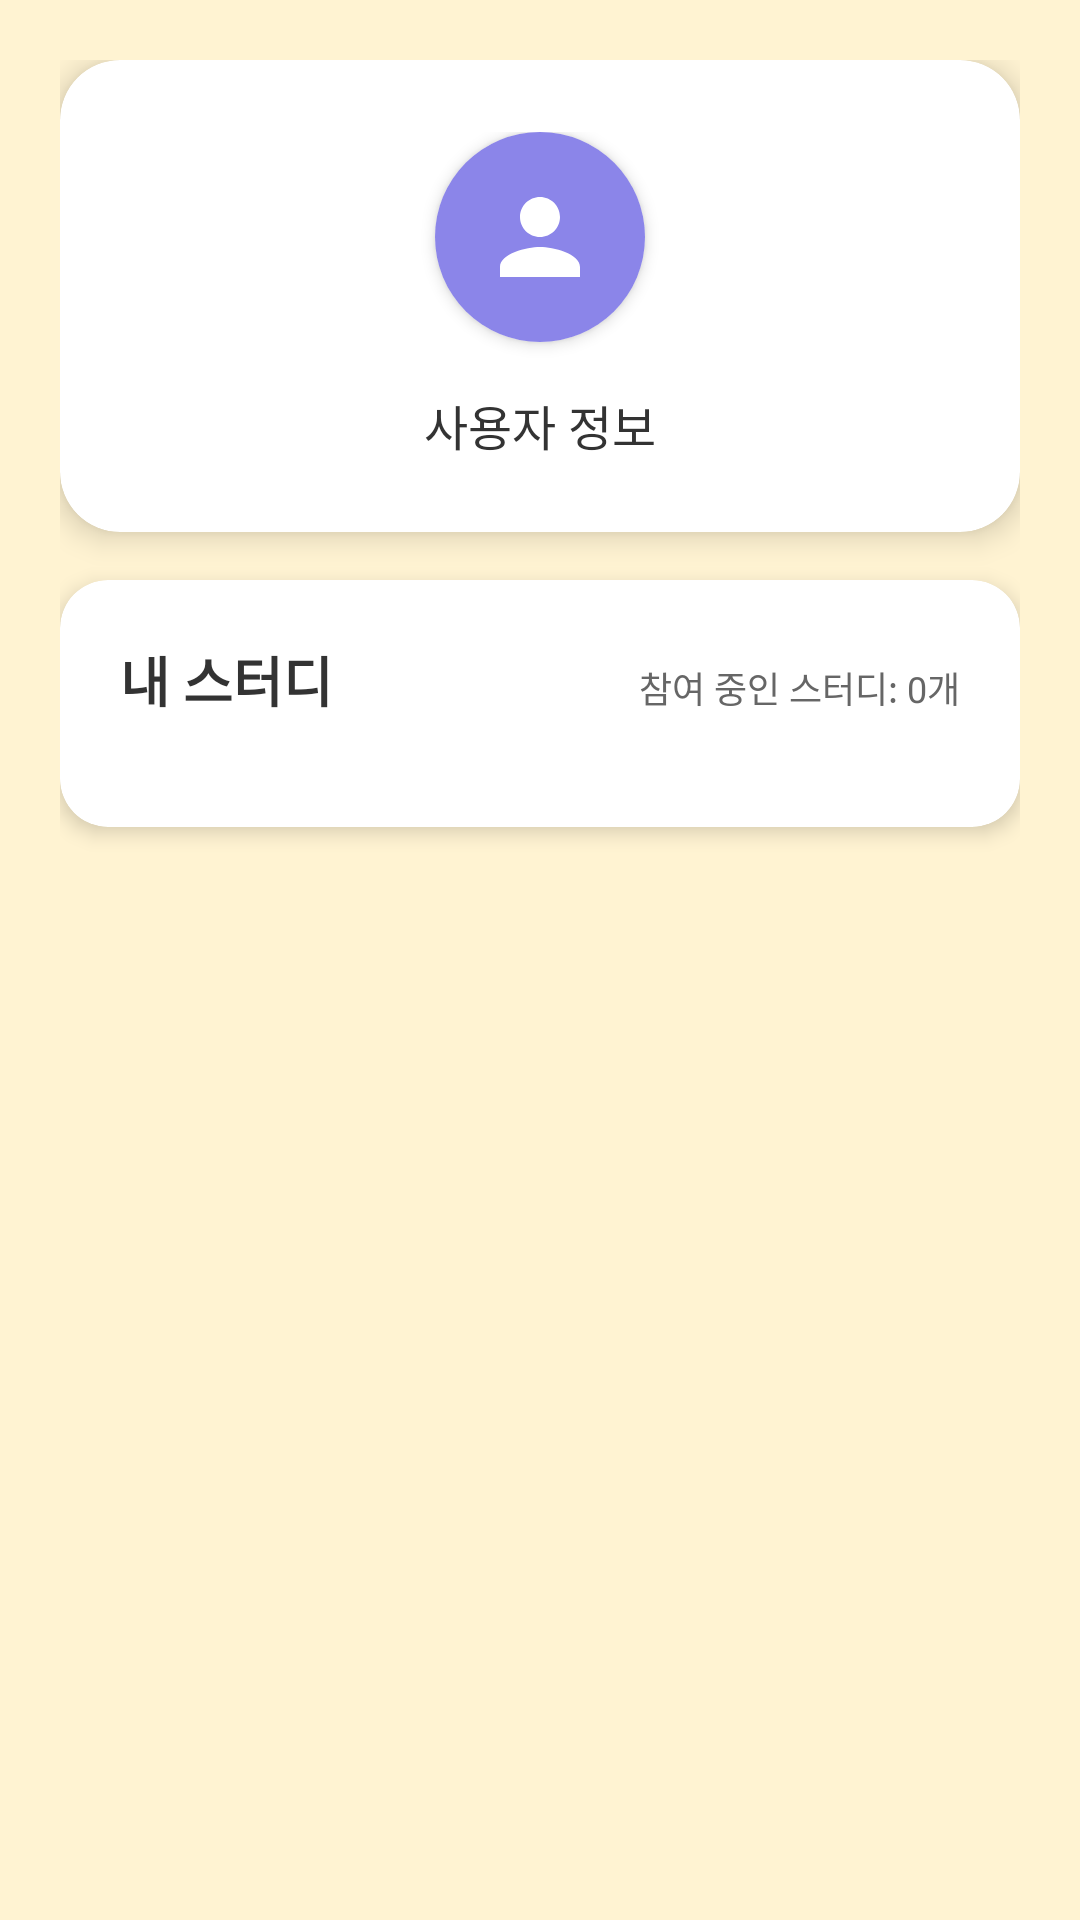

Icons on this 1080×1920 Android screen, each with its box as Rect(x1, y1, x2, y2):
프로필 이미지: Rect(435, 132, 645, 342)
